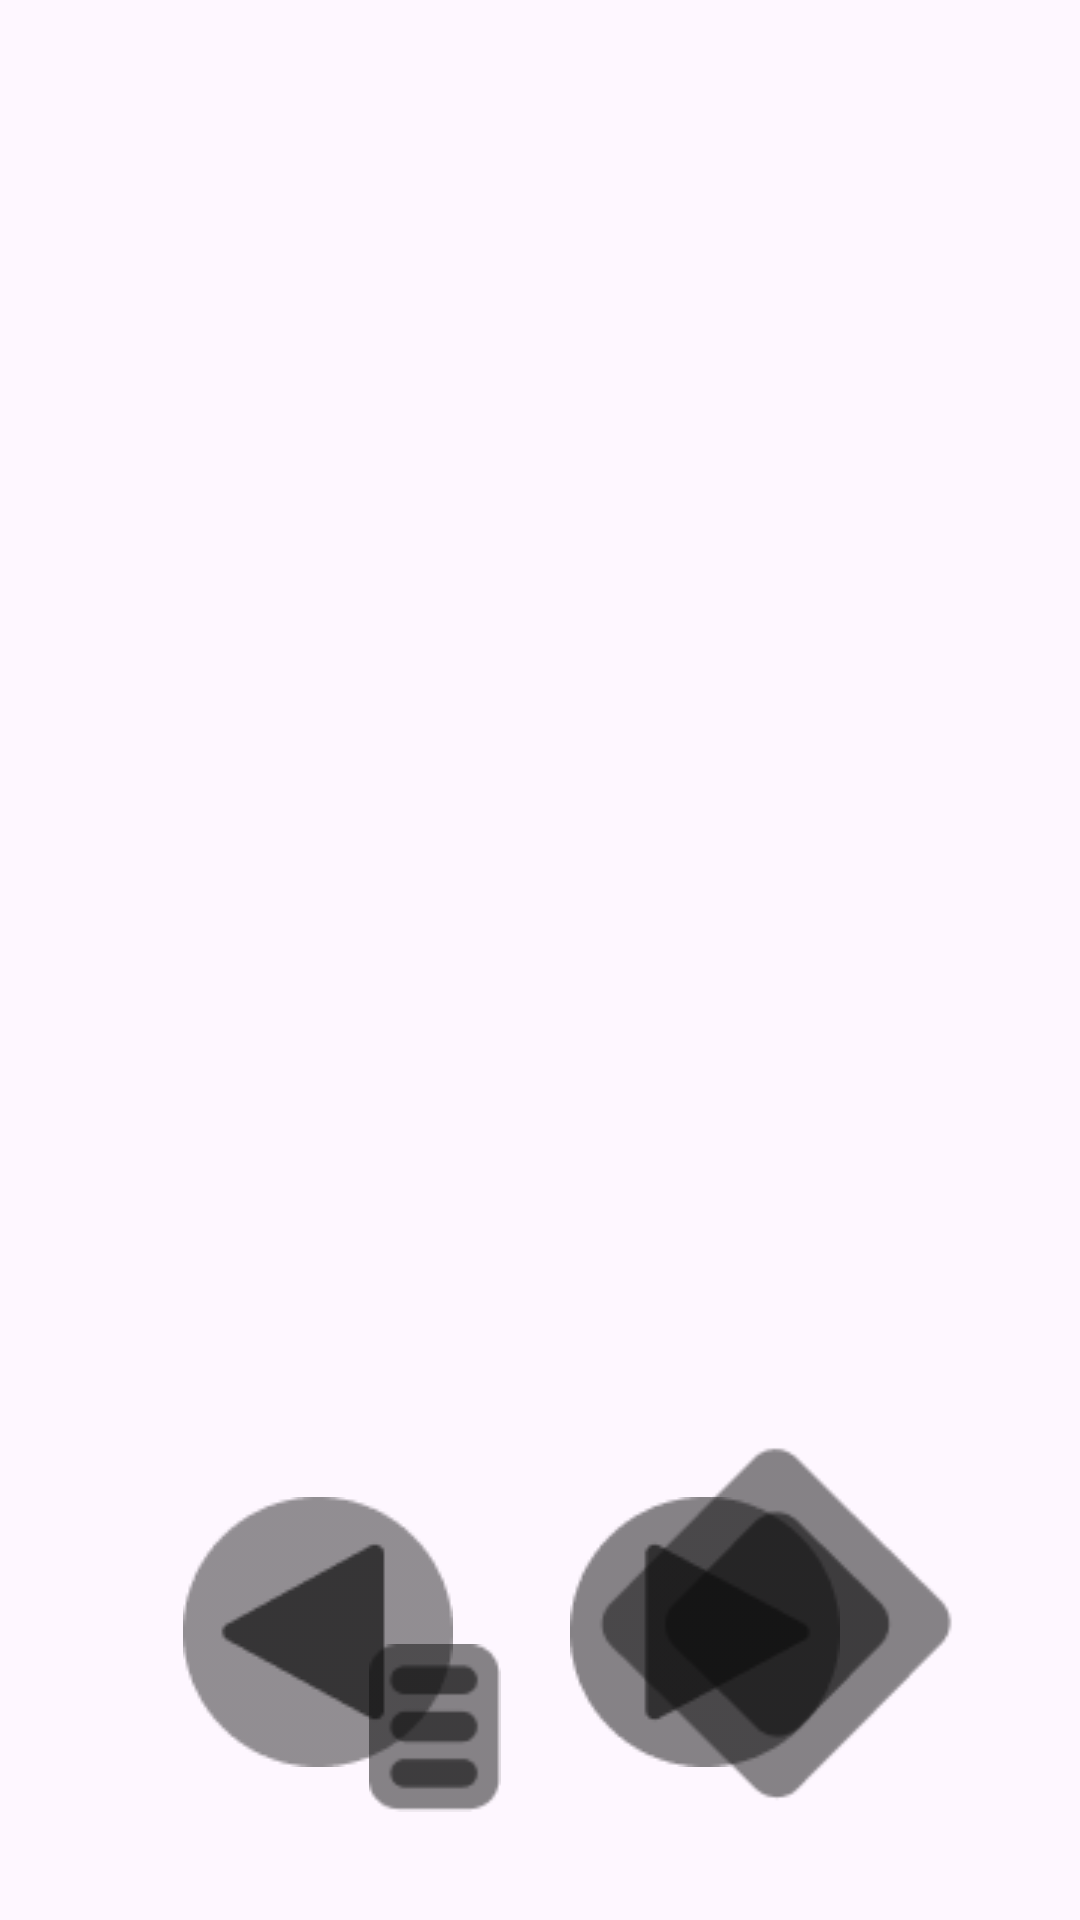

Locate icon controls on the screen. Image size 1080×1920, boxes as (x1, y1, x2, y2).
left: (183, 1497, 453, 1767)
